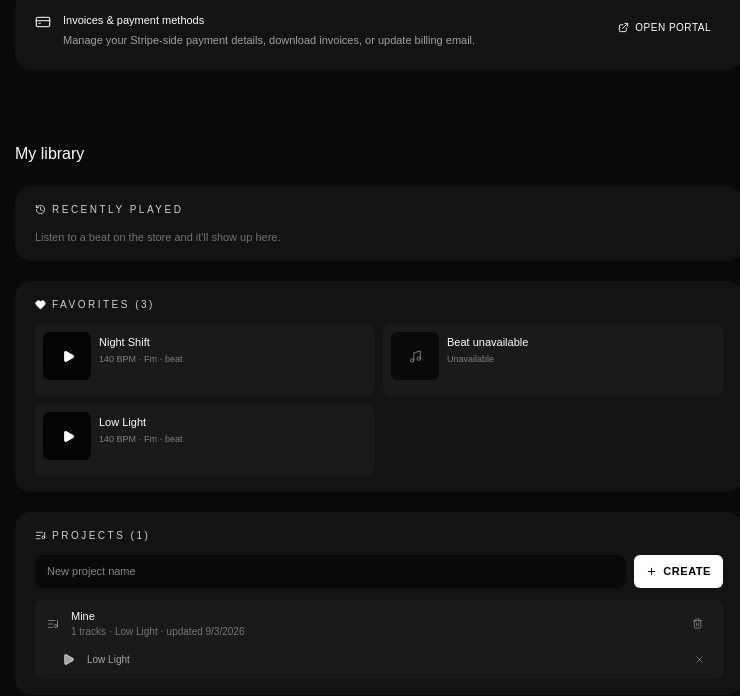
Test: /store/account/me playback › pressing the playing beat pauses it, and the label follows
(page scrolled)
Step 1. Click the button named "Play Night Shift" → coordinates (67, 356), box [43,332,91,380]
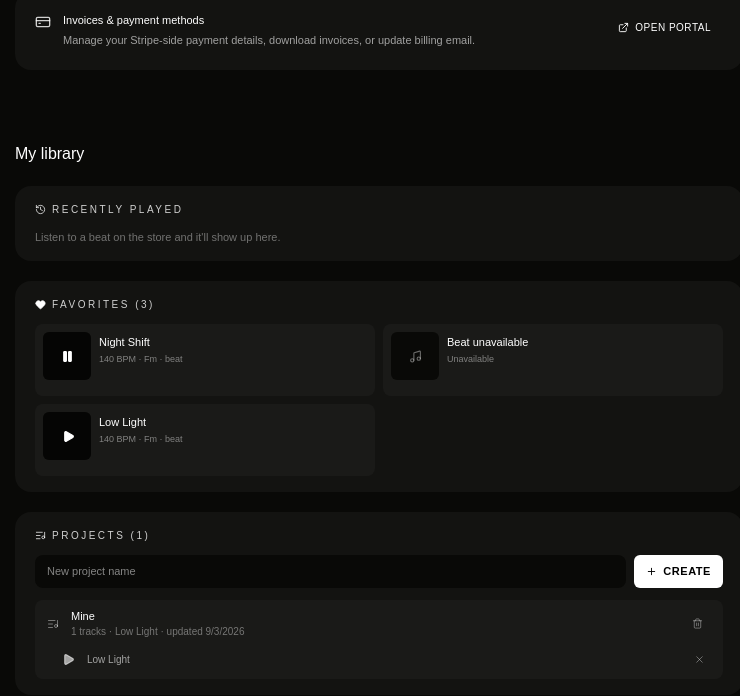
Step 2. Click the button named "Pause Night Shift" → coordinates (67, 356), box [43,332,91,380]
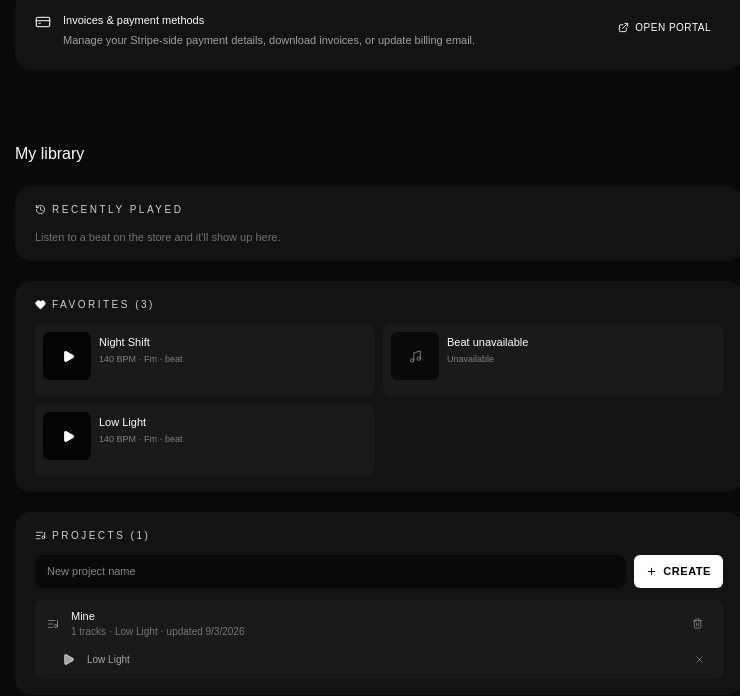
Check: the button named "Play Night Shift" is shown, box [43,332,91,380]
